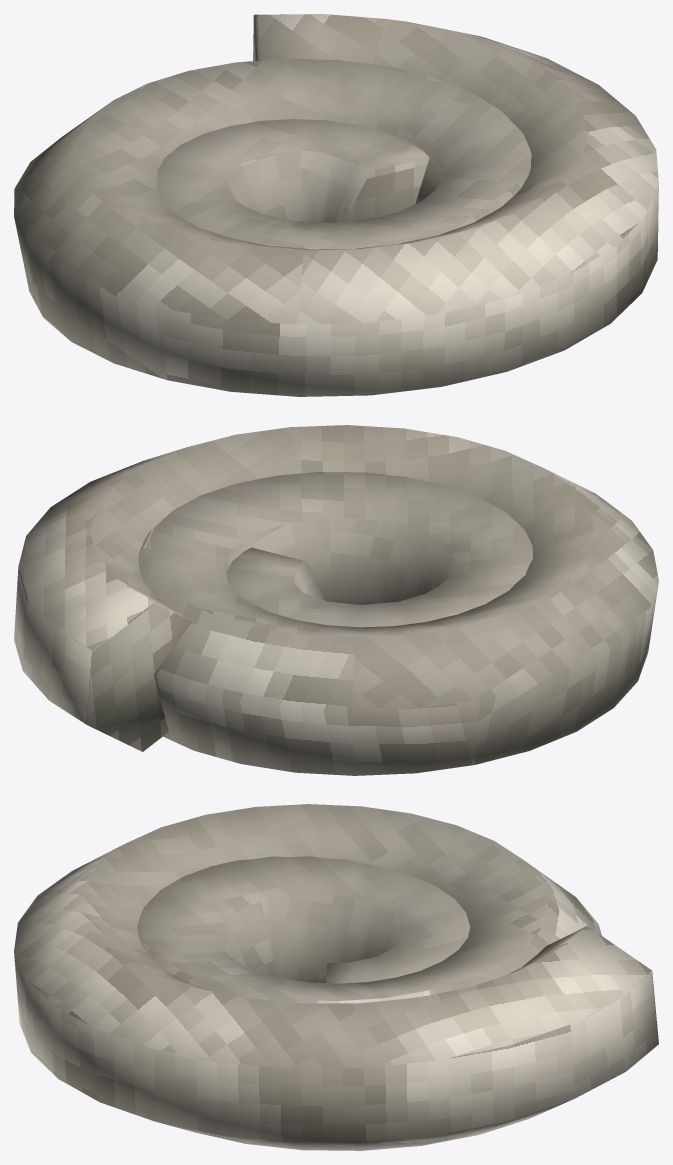
Rendered from pellet_udon.glb.
The picture shows the model from 3 angles, top to bottom: view 1: azimuth 30°, elevation 25°; view 2: azimuth 150°, elevation 25°; view 3: azimuth 270°, elevation 25°; orthographic projection. The views are drawn at different scales.
Visible parts, largest first — view 1: prop_pellet_udon_felt; view 2: prop_pellet_udon_felt; view 3: prop_pellet_udon_felt.
Boxes of the visible parts, x1=… form: prop_pellet_udon_felt: x1=14, y1=14, x2=658, y2=396; prop_pellet_udon_felt: x1=14, y1=425, x2=658, y2=775; prop_pellet_udon_felt: x1=14, y1=804, x2=658, y2=1150.
Size of the model in its own units: 0.088 by 0.0269 by 0.0901.
1 material, 1 textured.
